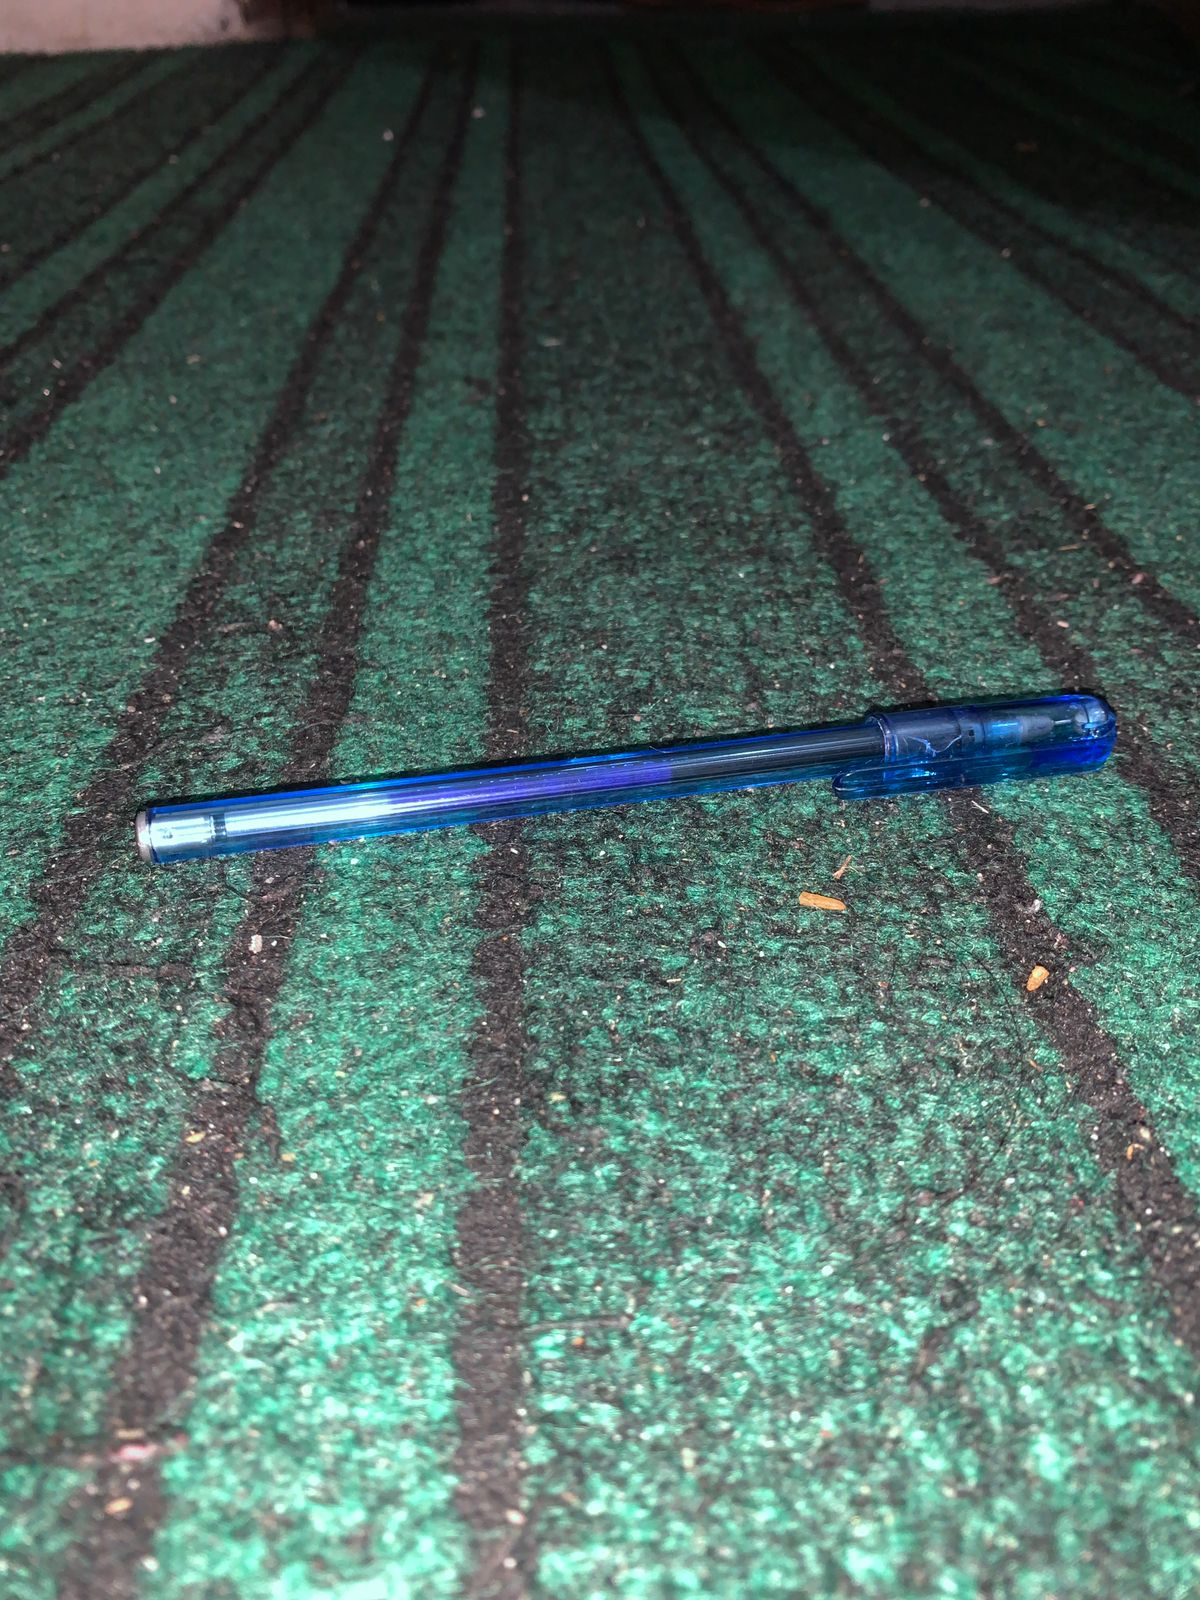pen: (95, 625, 1124, 946)
